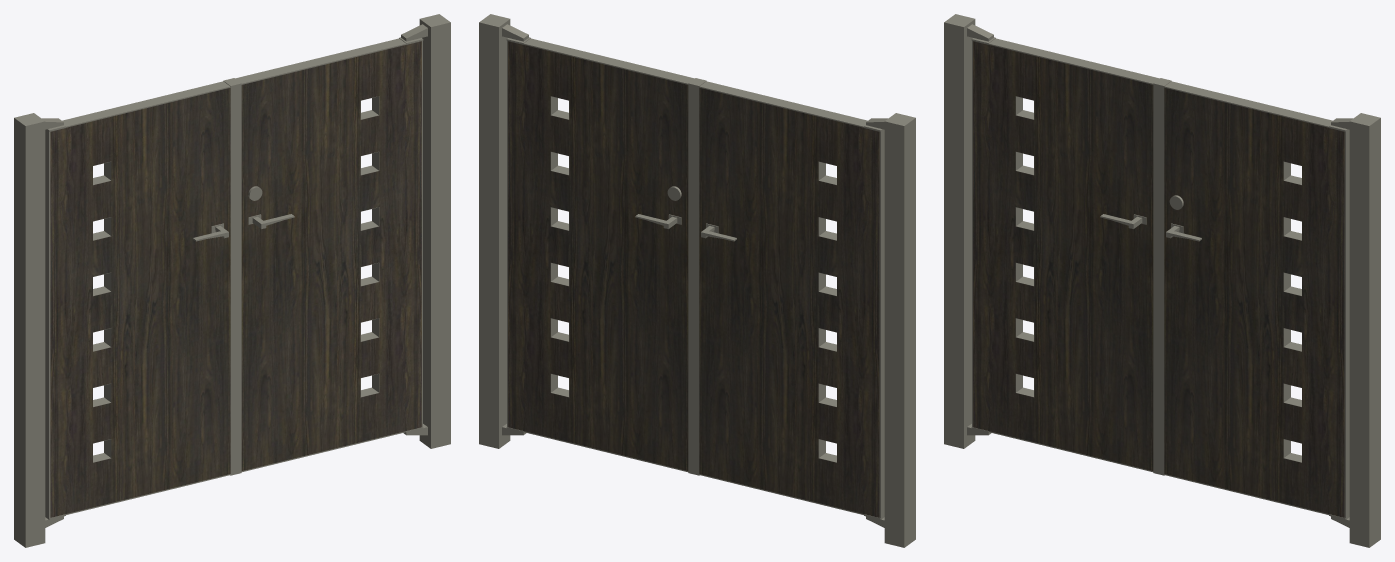
File: abmonpi-komado_h1400-w1400_blackebony.fbx
3 views of the same model, side by side, from view 1: azimuth 30°, elevation 25°; view 2: azimuth 150°, elevation 25°; view 3: azimuth 330°, elevation 25° (orthographic).
Parts seen in each view (by area): view 1: abmonpi-komado_h1400-w1400_rustycopper.001; view 2: abmonpi-komado_h1400-w1400_rustycopper.001; view 3: abmonpi-komado_h1400-w1400_rustycopper.001.
Boxes of the visible parts, <box> form: abmonpi-komado_h1400-w1400_rustycopper.001: <box>14,14,450,547</box>; abmonpi-komado_h1400-w1400_rustycopper.001: <box>479,14,915,547</box>; abmonpi-komado_h1400-w1400_rustycopper.001: <box>944,14,1380,547</box>.
Size of the model in its own units: 160 by 152 by 16.7.
Materials: 2 (2 with a texture image).
